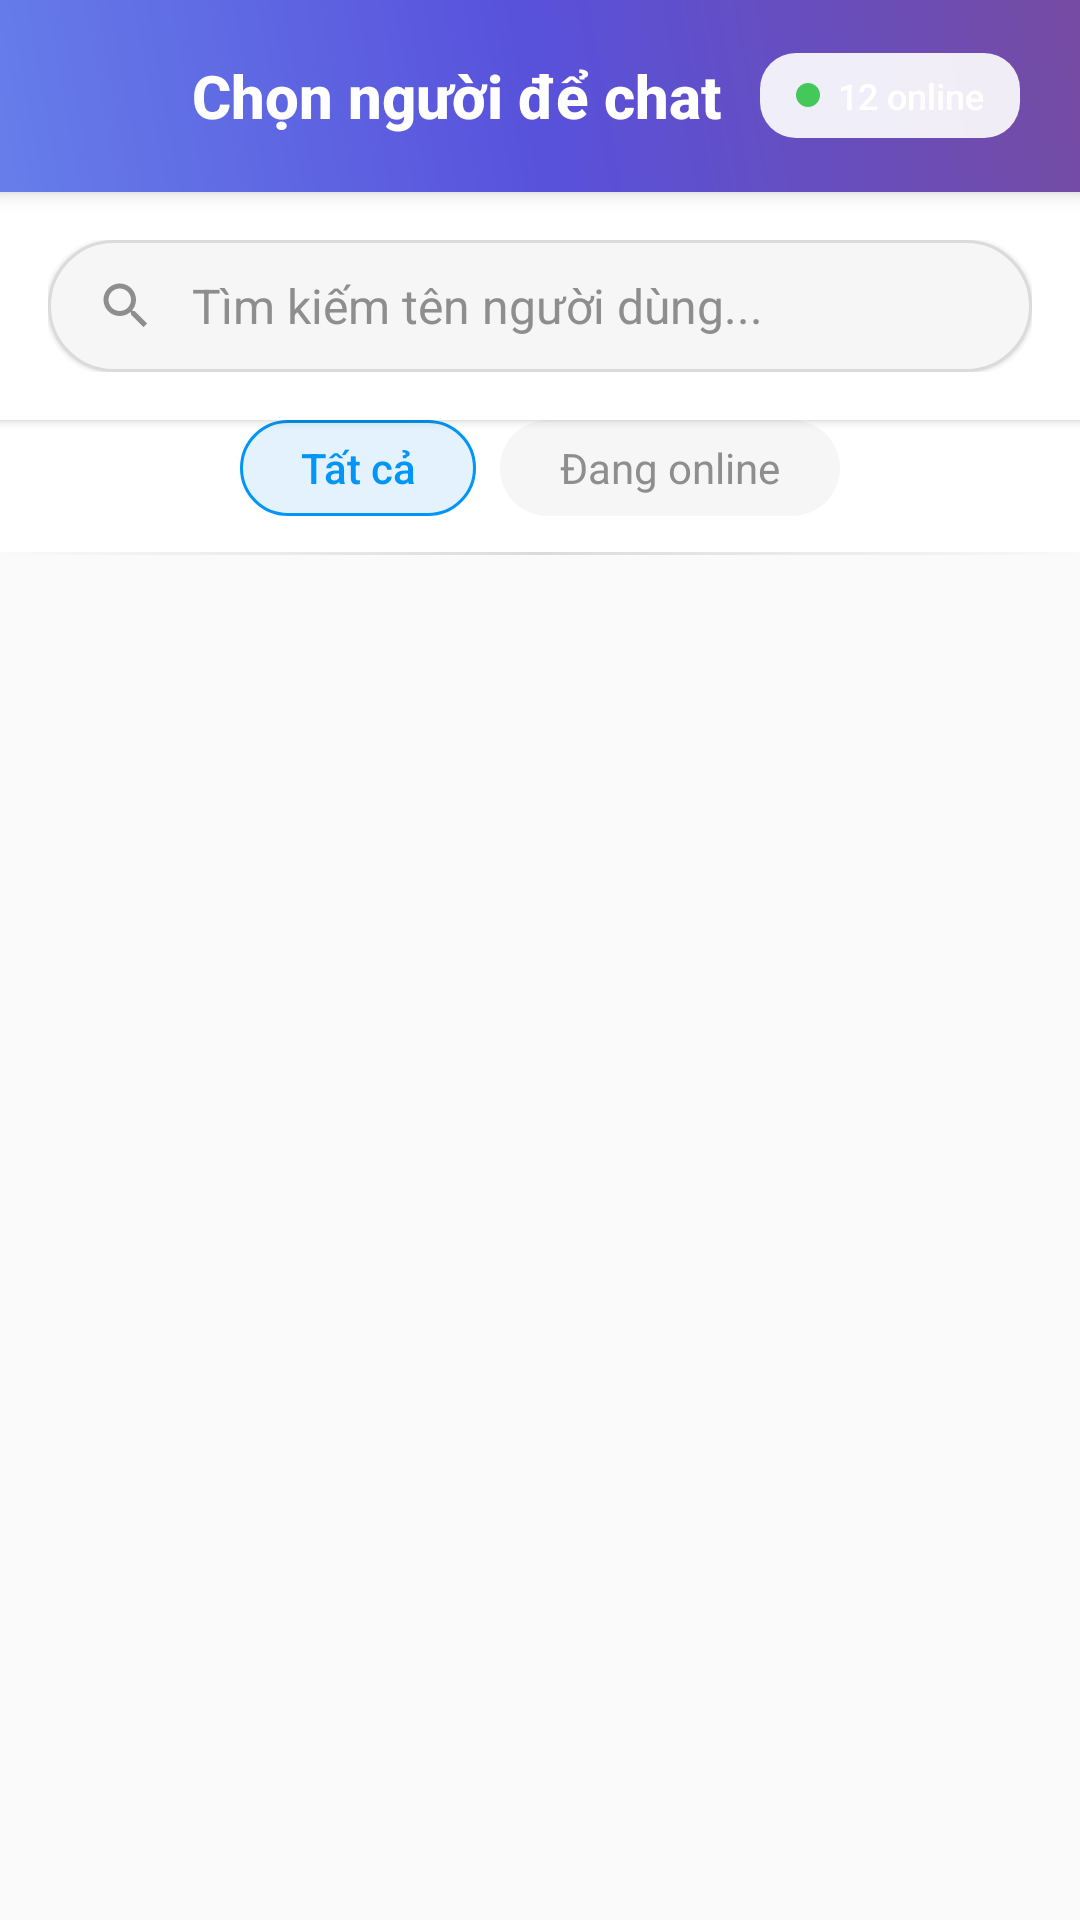

Icons on this 1080w x 1920h Android screen, each with its box as bbox(x1, y1, x2, y2):
search: bbox(103, 283, 147, 327)
